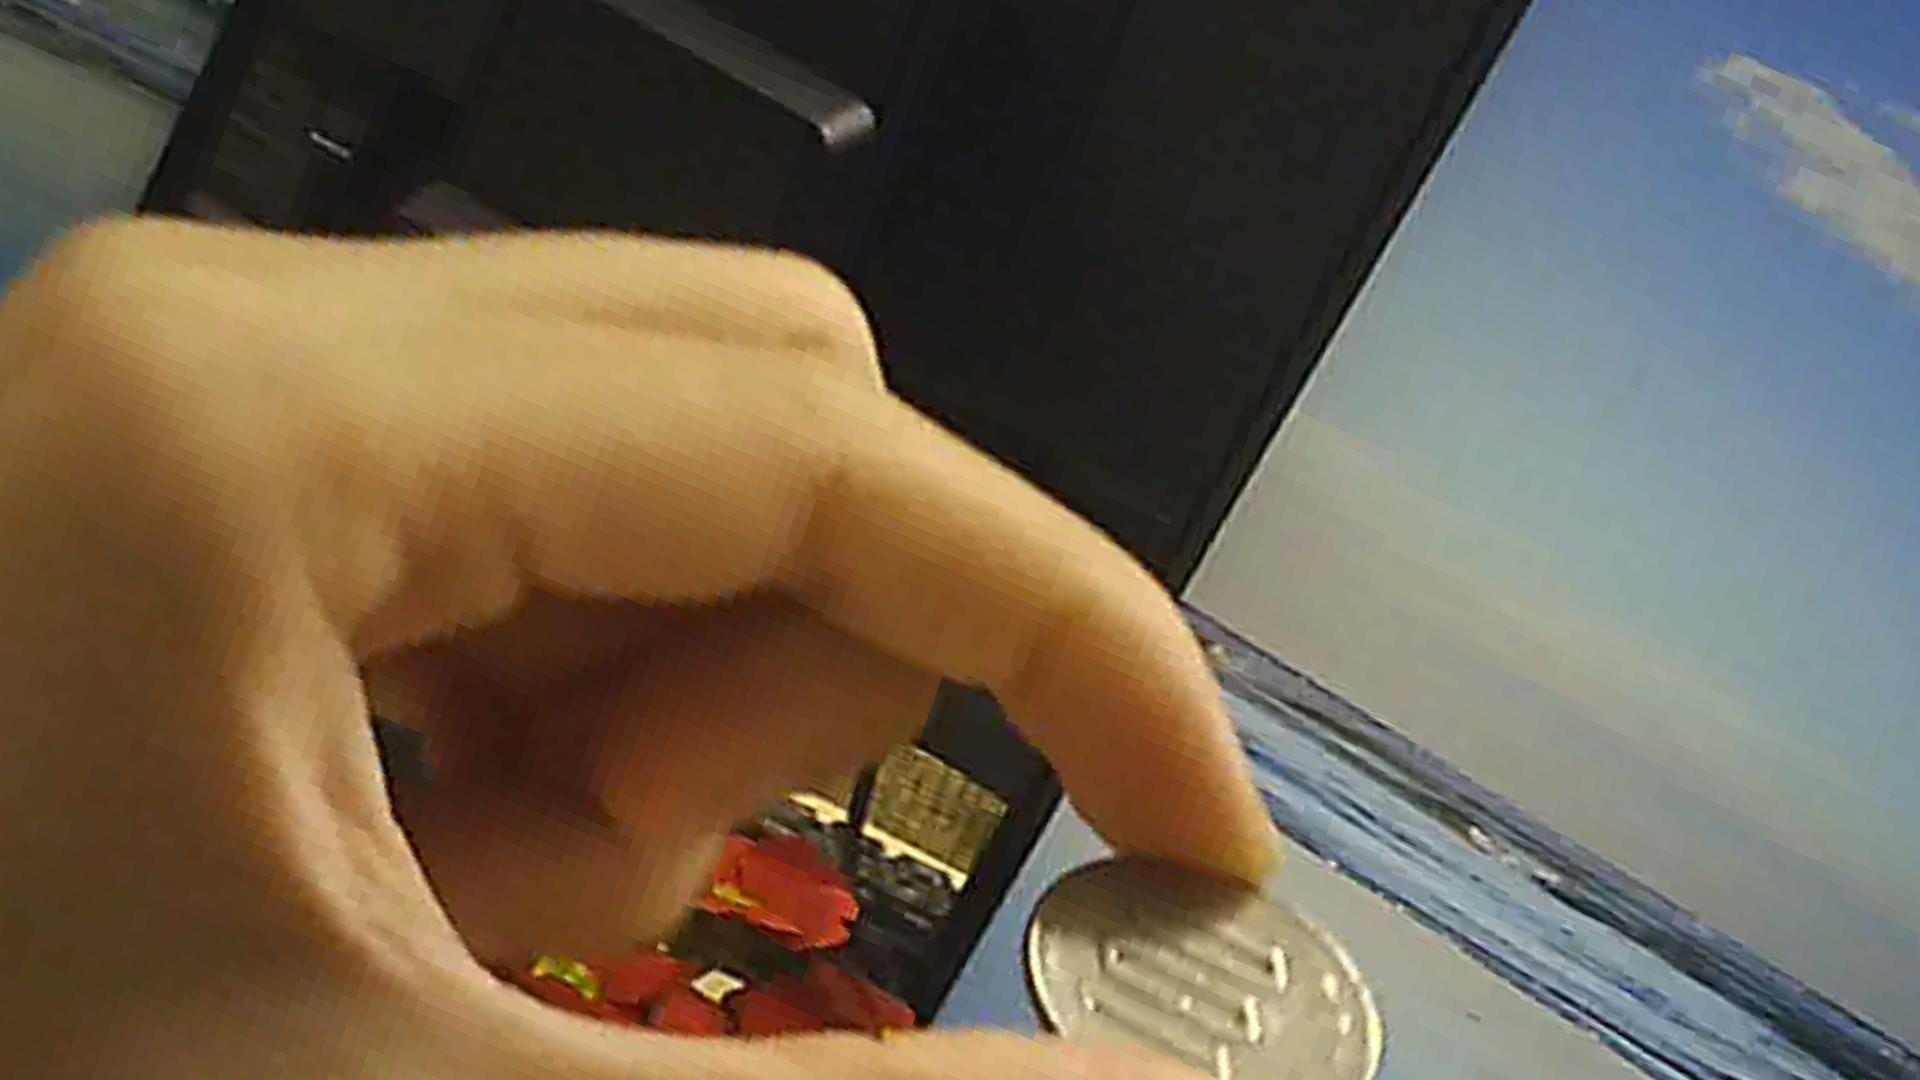100 Yen: (1015, 852, 1406, 1079)
